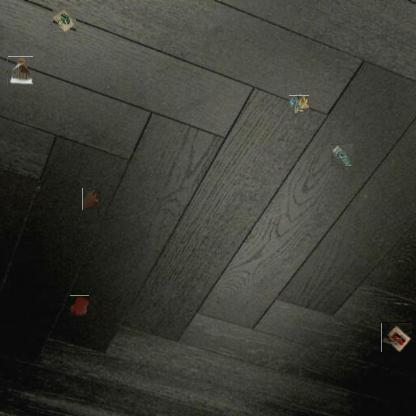dirty: (381, 322, 412, 352), (7, 56, 33, 85), (52, 8, 76, 32), (331, 144, 353, 166), (291, 94, 308, 112)
liquid: (69, 296, 90, 316), (82, 188, 101, 210)
